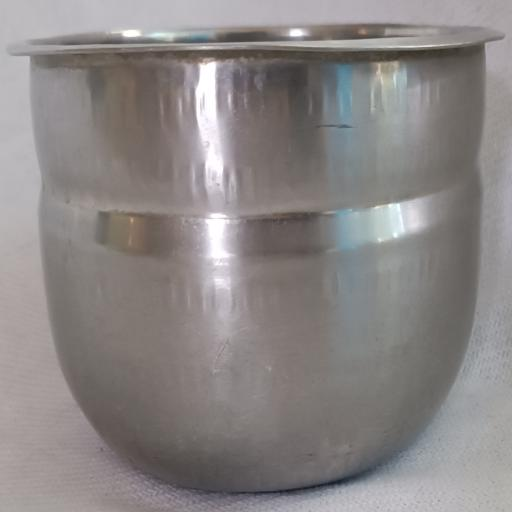vessel: (11, 25, 501, 491)
